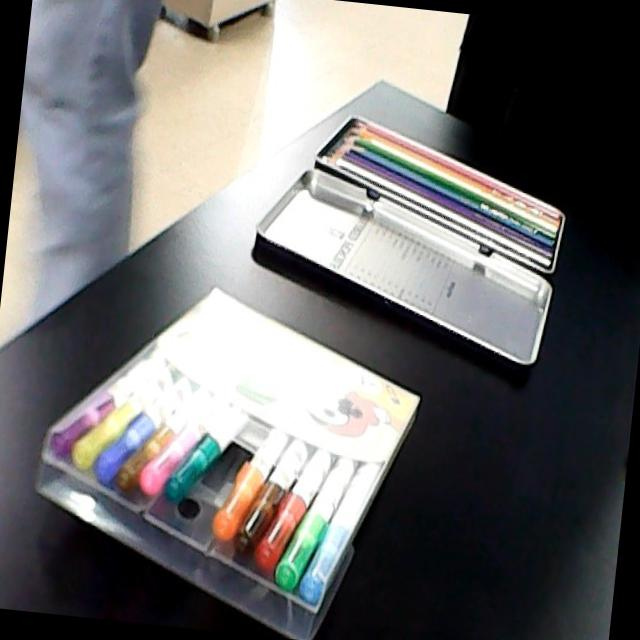color: (303, 108, 573, 281)
signpen: (31, 276, 431, 640)
